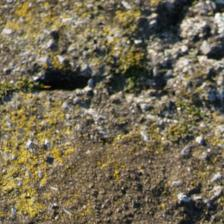Crack: (27, 59, 223, 122)
